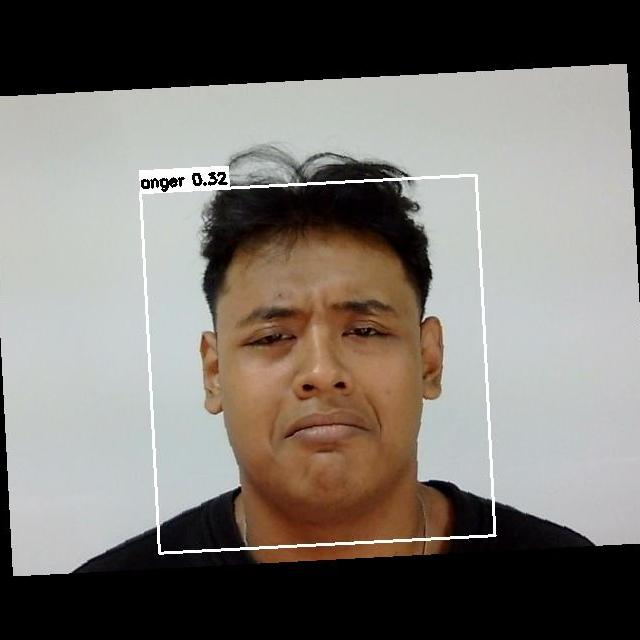Sad: (209, 291, 417, 468)
